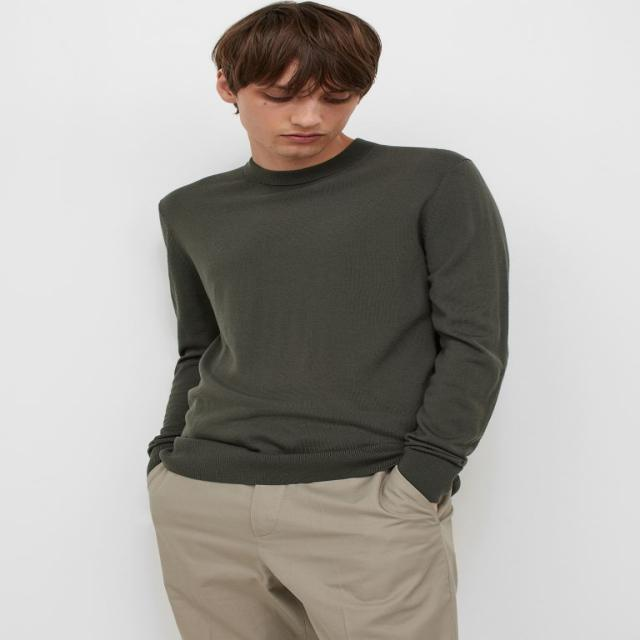plain: (150, 154, 516, 483)
